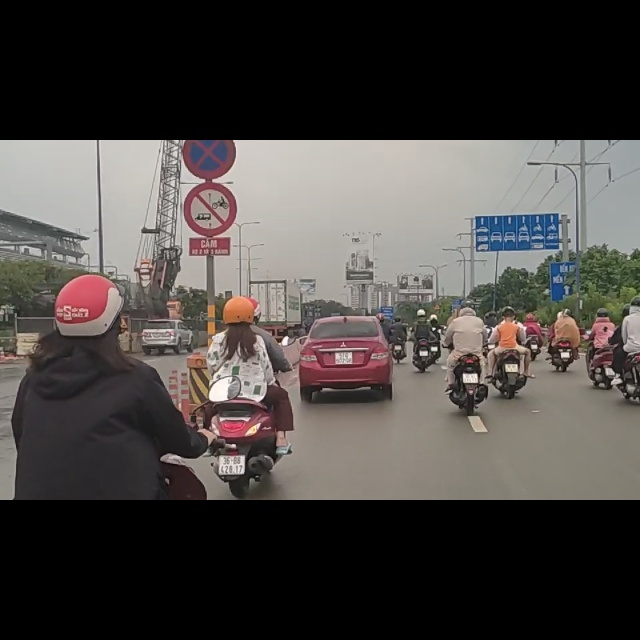bien_cam: (184, 76, 236, 170), (182, 1, 236, 69)
